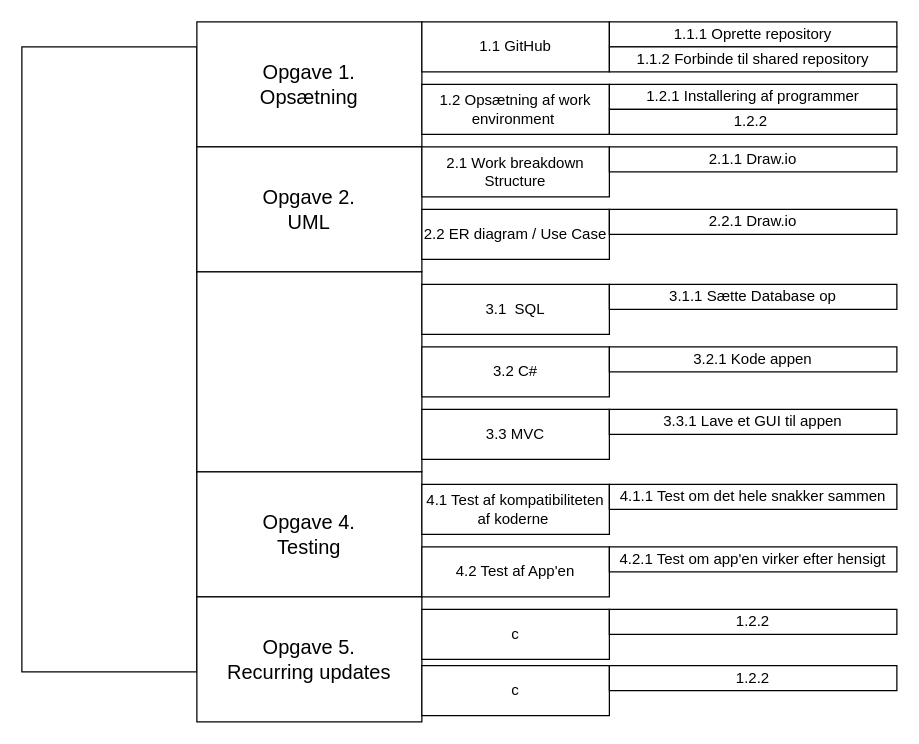
Image size: 919x744. Some labels were removed from this diagram. The shapes that lost their labels are listed below. From the top down, each one's centre as x and y in pixels, then its label:
(109,359): Dating App
(309,371): Opgave 3. Programmering
